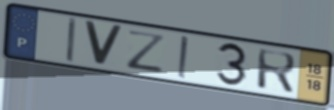3: (213, 40, 251, 89)
I: (64, 16, 79, 65), (176, 34, 190, 81)
R: (255, 47, 298, 96)
V: (81, 19, 126, 70)
Z: (125, 28, 169, 75)
